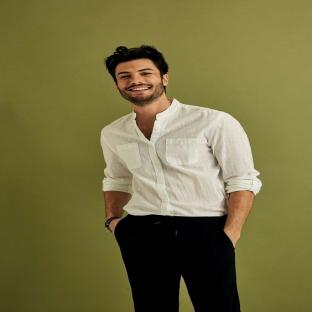Human: (101, 47, 261, 312)
